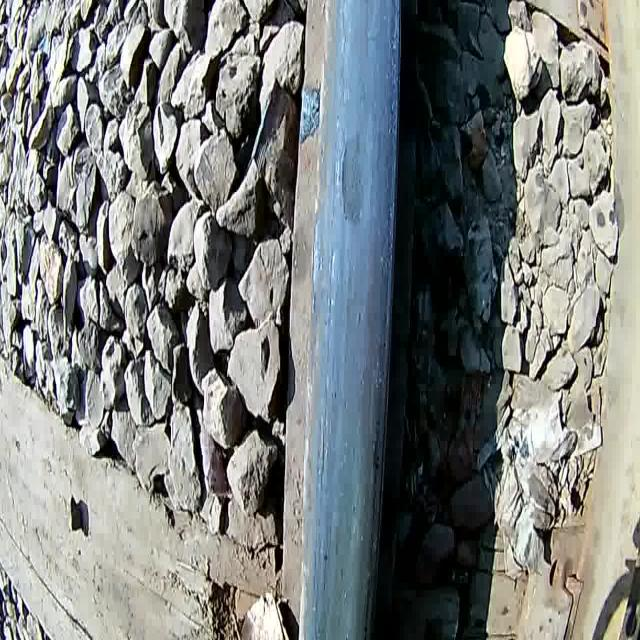Squats: (268, 0, 427, 640)
